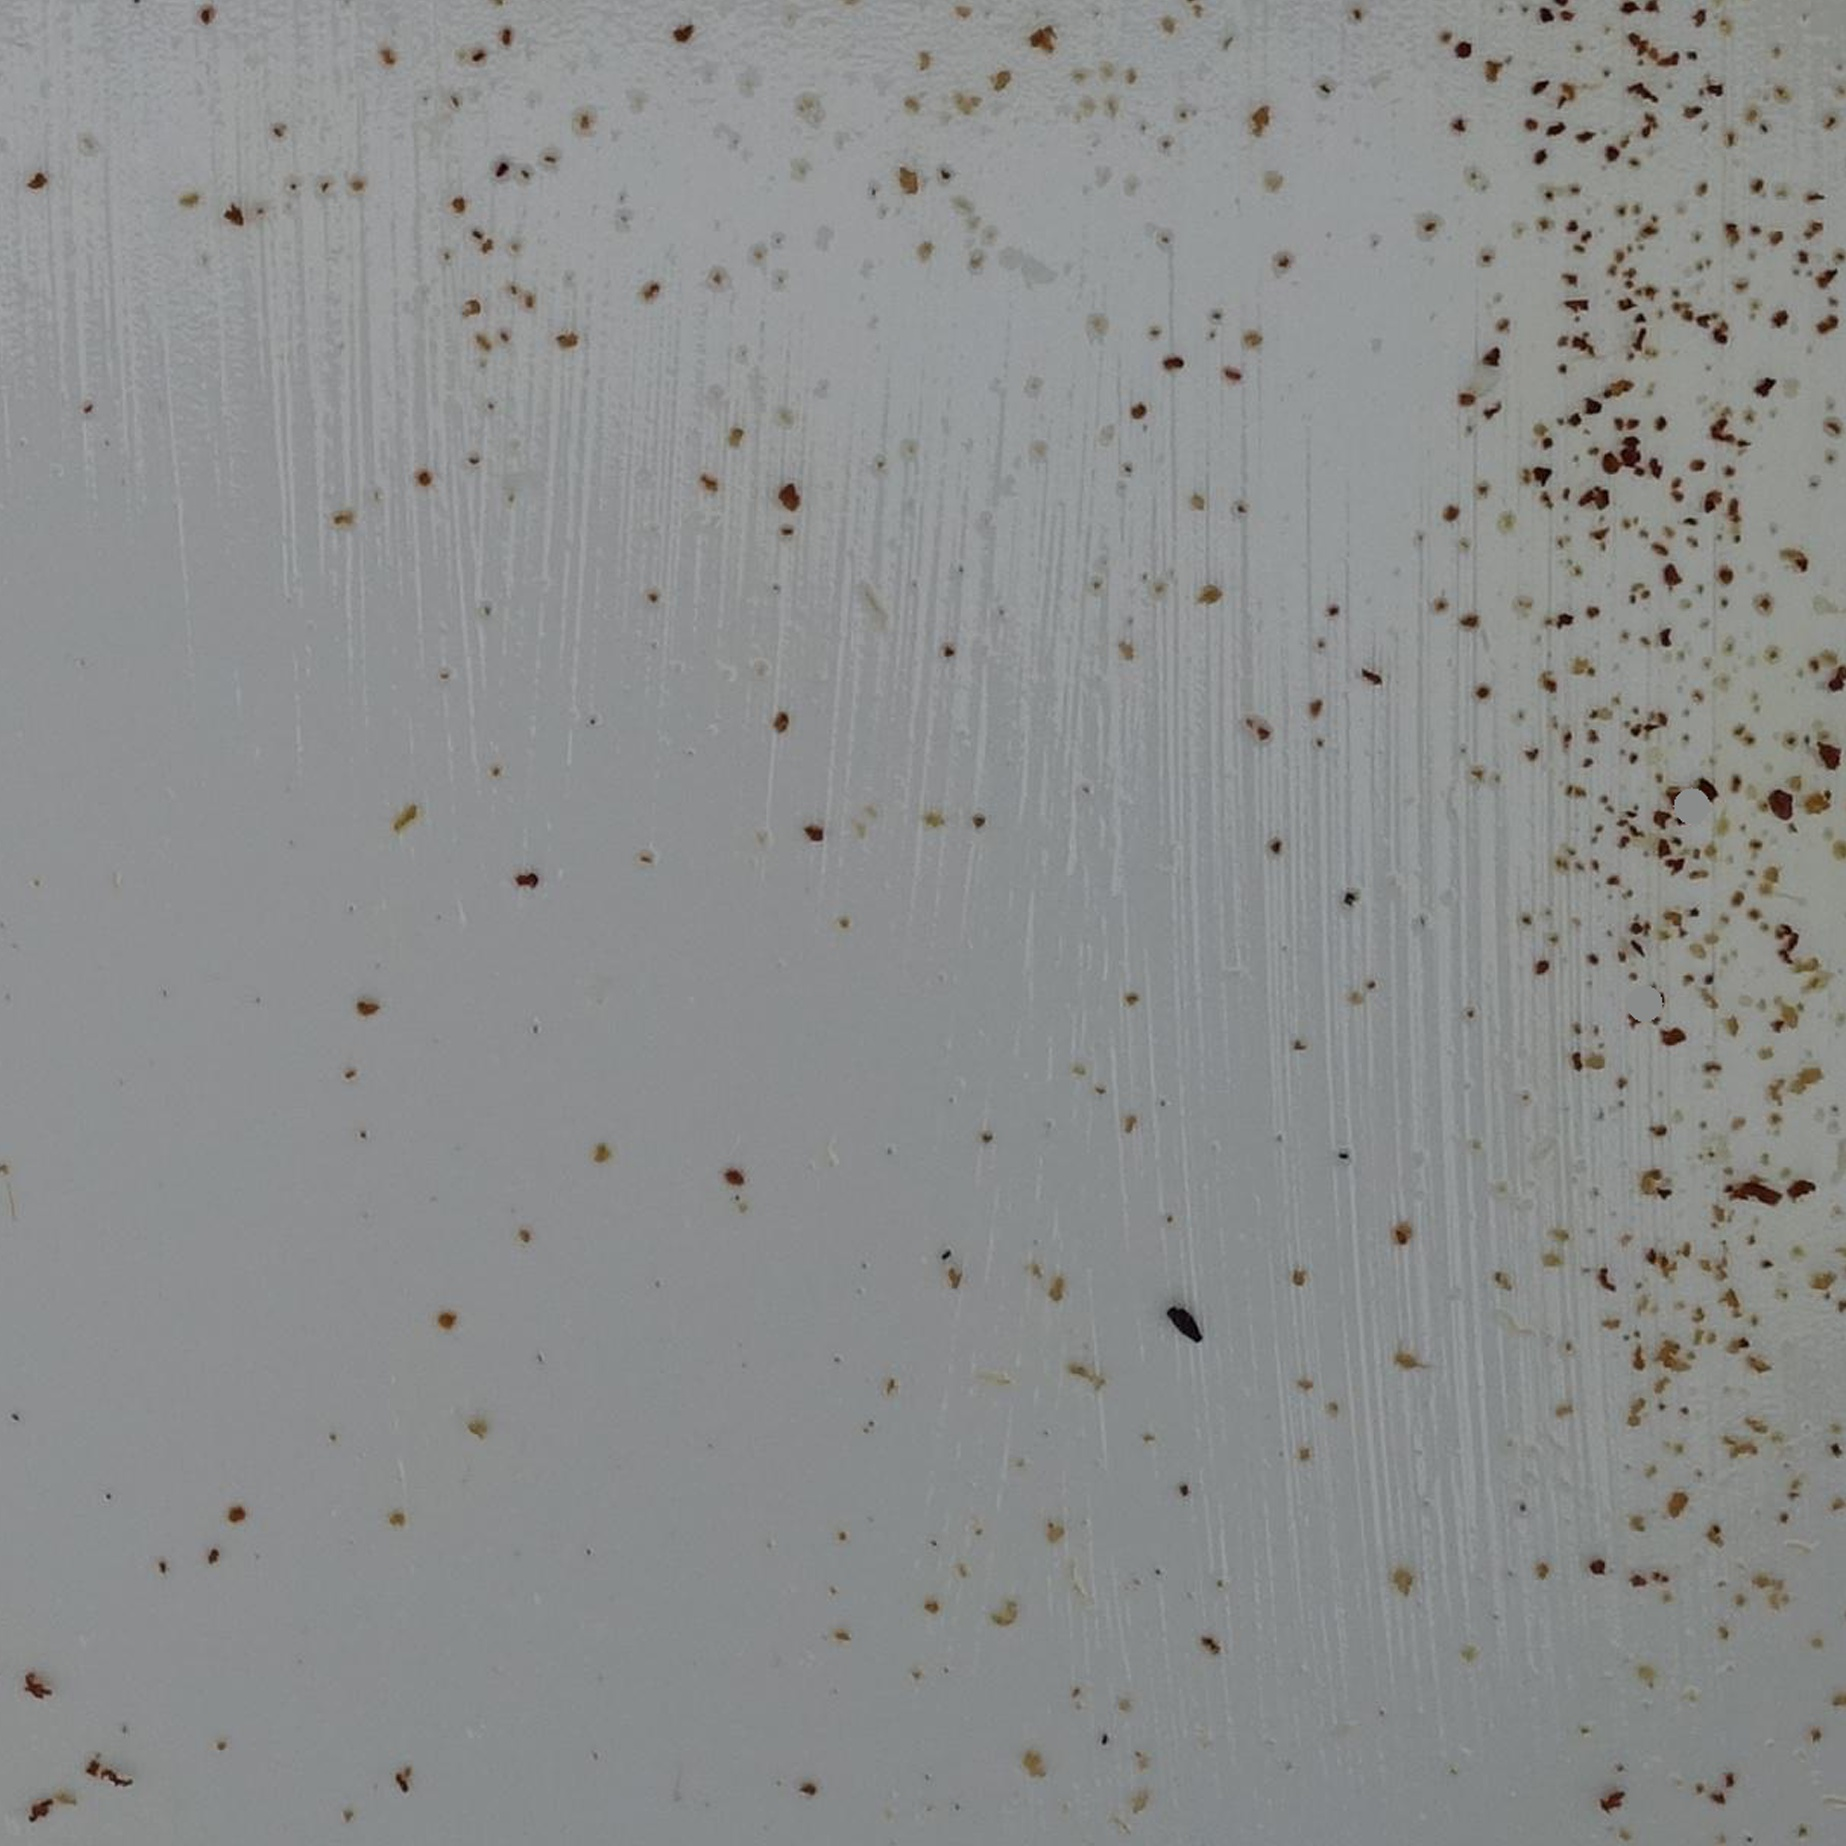Varroa: (1767, 788, 1795, 816)
